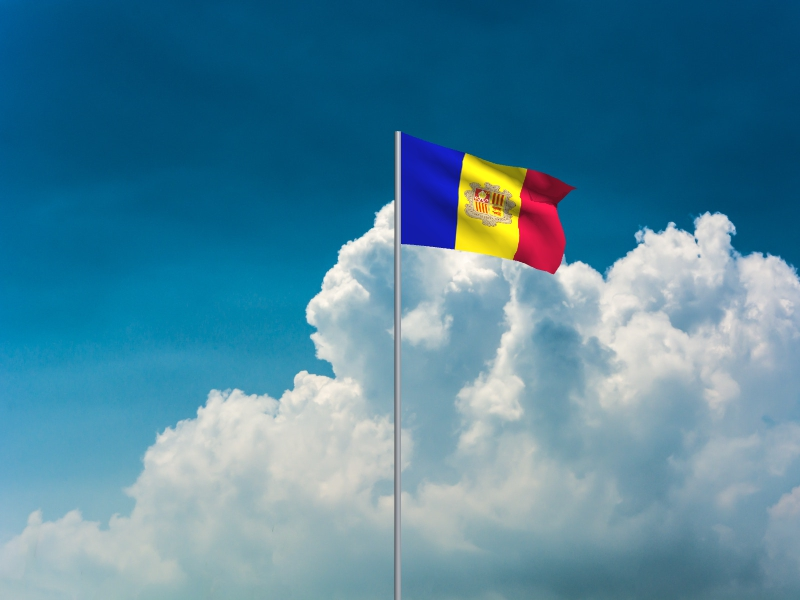ad: (401, 135, 583, 280)
